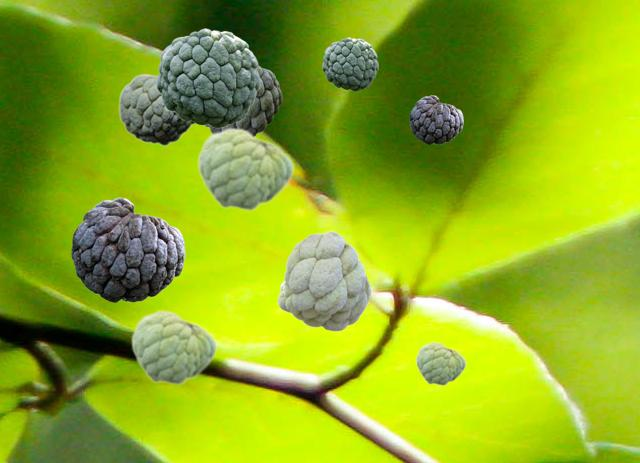atis: (71, 197, 184, 301), (156, 28, 259, 127), (277, 231, 370, 330), (196, 126, 293, 211), (130, 309, 216, 385), (118, 73, 195, 145), (205, 65, 281, 135), (322, 37, 377, 90), (409, 95, 462, 143), (415, 341, 465, 385)
